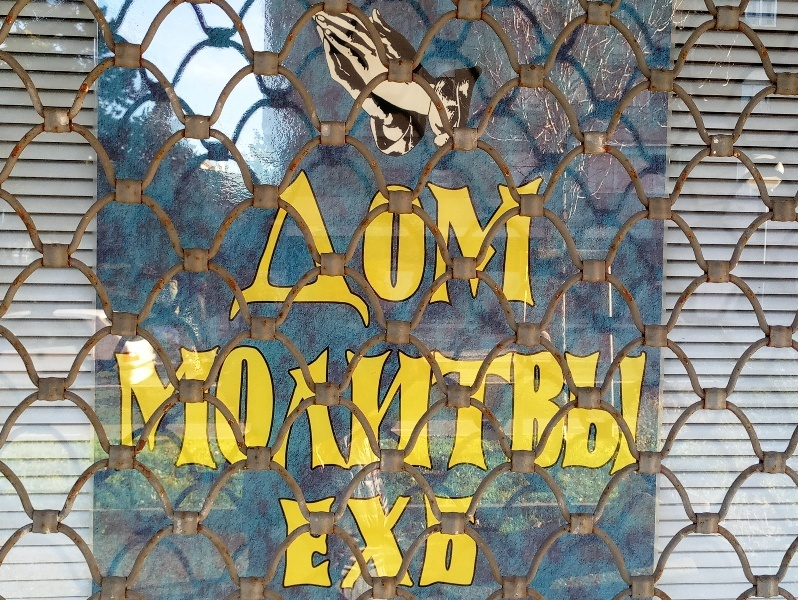text: (289, 171, 304, 335), (305, 171, 320, 335), (321, 171, 336, 335), (337, 171, 352, 335), (353, 171, 368, 335), (369, 171, 384, 335), (385, 171, 400, 335), (401, 171, 416, 335), (417, 171, 432, 335), (433, 171, 448, 335), (449, 171, 464, 335), (465, 171, 480, 335), (481, 171, 496, 335), (497, 171, 512, 335), (513, 171, 528, 335), (529, 171, 544, 335), (113, 348, 128, 476), (129, 348, 144, 476), (145, 348, 160, 476), (161, 348, 176, 476), (177, 348, 192, 476), (193, 348, 208, 476), (209, 348, 224, 476), (225, 348, 240, 476), (241, 348, 256, 476), (257, 348, 272, 476), (273, 348, 288, 476), (289, 348, 304, 476), (305, 348, 320, 476), (321, 348, 336, 476), (337, 348, 352, 476), (353, 348, 368, 476), (369, 348, 384, 476), (385, 348, 400, 476), (401, 348, 416, 476), (417, 348, 432, 476), (433, 348, 448, 476), (449, 348, 464, 476), (465, 348, 480, 476), (481, 348, 496, 476), (497, 348, 512, 476), (513, 348, 528, 476), (529, 348, 544, 476), (545, 348, 560, 476), (561, 348, 576, 476), (577, 348, 592, 476), (593, 348, 608, 476), (609, 348, 624, 476), (625, 348, 640, 476), (465, 493, 481, 591), (289, 493, 304, 591), (305, 493, 320, 591), (321, 493, 336, 591), (337, 493, 352, 591), (353, 493, 368, 591), (369, 493, 384, 591), (385, 493, 400, 591), (401, 493, 416, 591), (417, 493, 432, 591), (433, 493, 448, 591), (449, 493, 464, 591), (641, 348, 650, 476), (281, 171, 288, 335), (277, 493, 288, 591), (545, 171, 546, 335)
